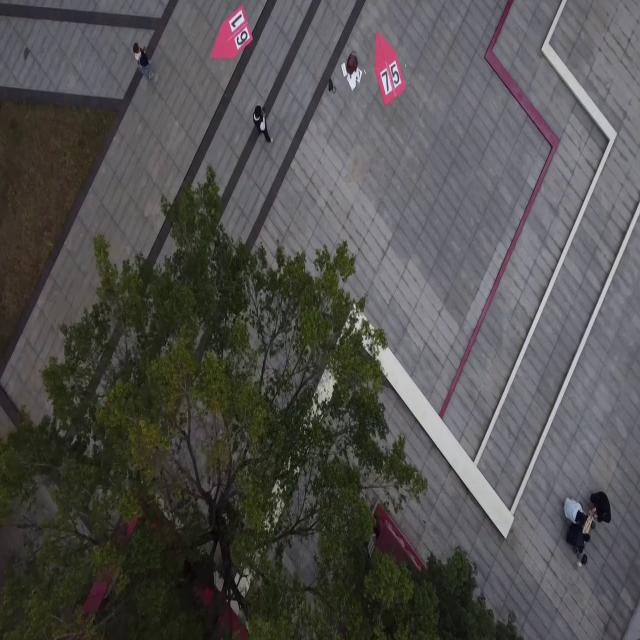-sign-: (374, 30, 406, 107), (212, 6, 254, 61)
